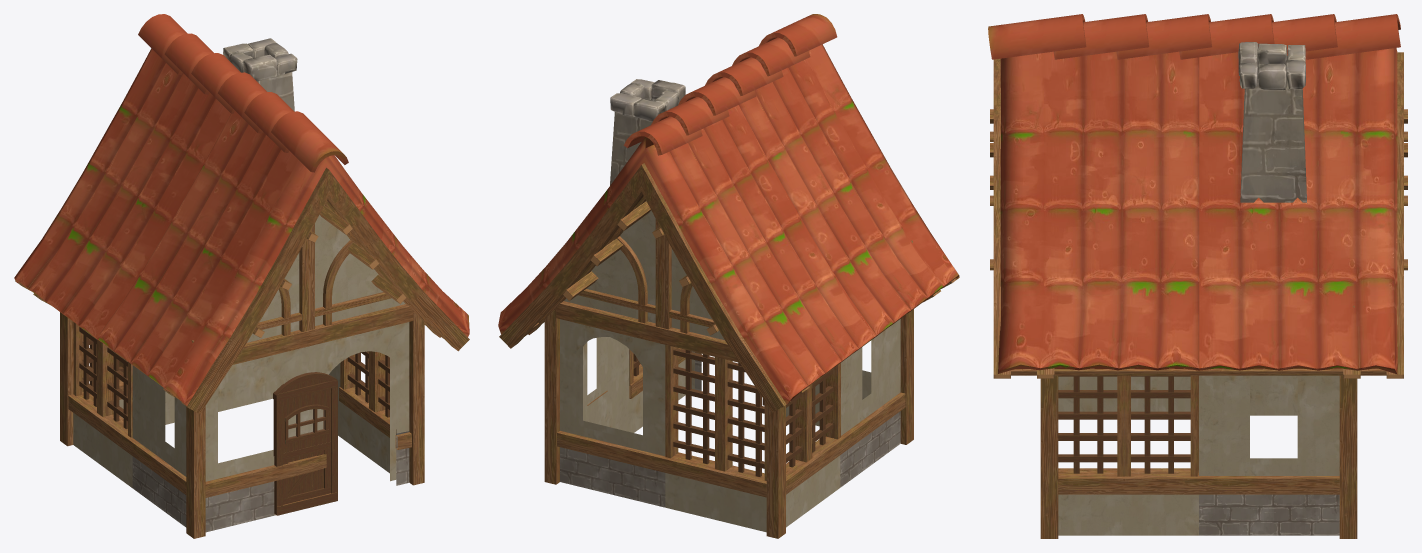
File: med-cottage.glb
3 renders of one model, left to right at view 1: azimuth 30°, elevation 25°; view 2: azimuth 150°, elevation 25°; view 3: azimuth 270°, elevation 25°, orthographic. The views are drawn at different scales.
Visible parts, largest first — view 1: med-cottage; view 2: med-cottage; view 3: med-cottage.
Part boxes in pixels (x1=…): med-cottage: x1=14, y1=14, x2=469, y2=538; med-cottage: x1=498, y1=14, x2=959, y2=538; med-cottage: x1=988, y1=14, x2=1407, y2=538.
Size of the model in its own units: 5.51 by 6.73 by 5.62.
6 materials, 5 textured.
